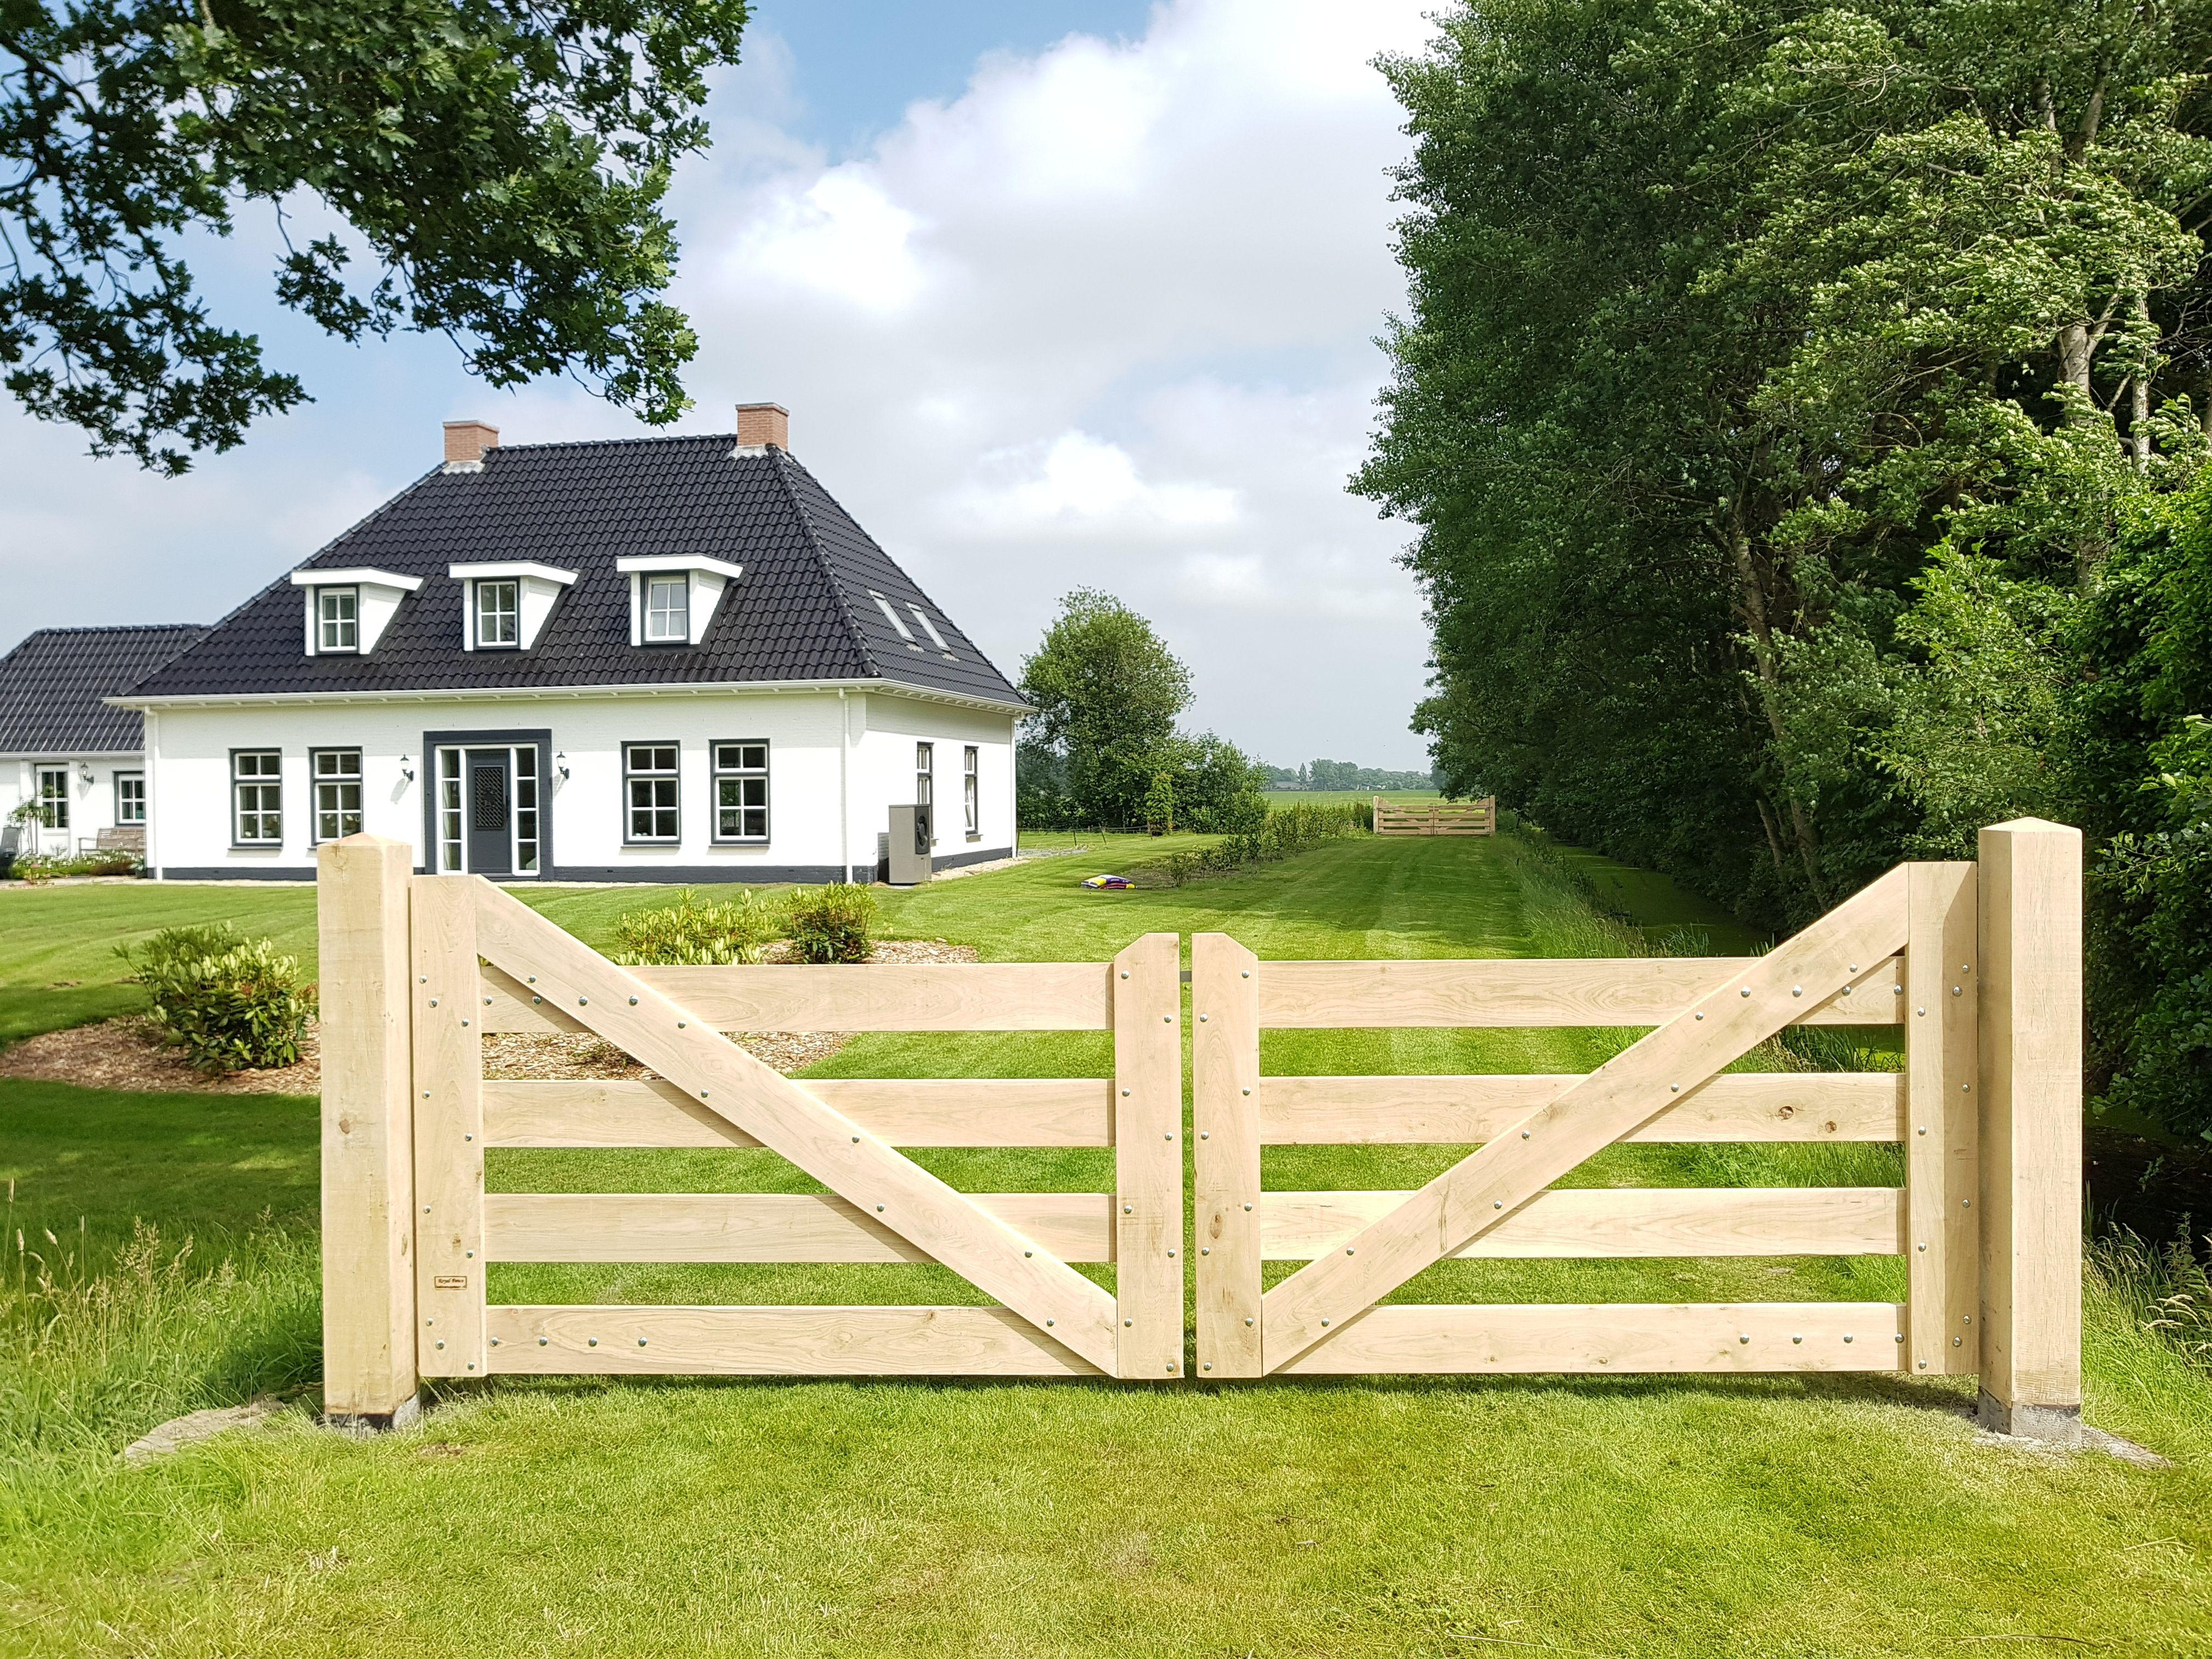obstacle: (467, 0, 2212, 1654)
